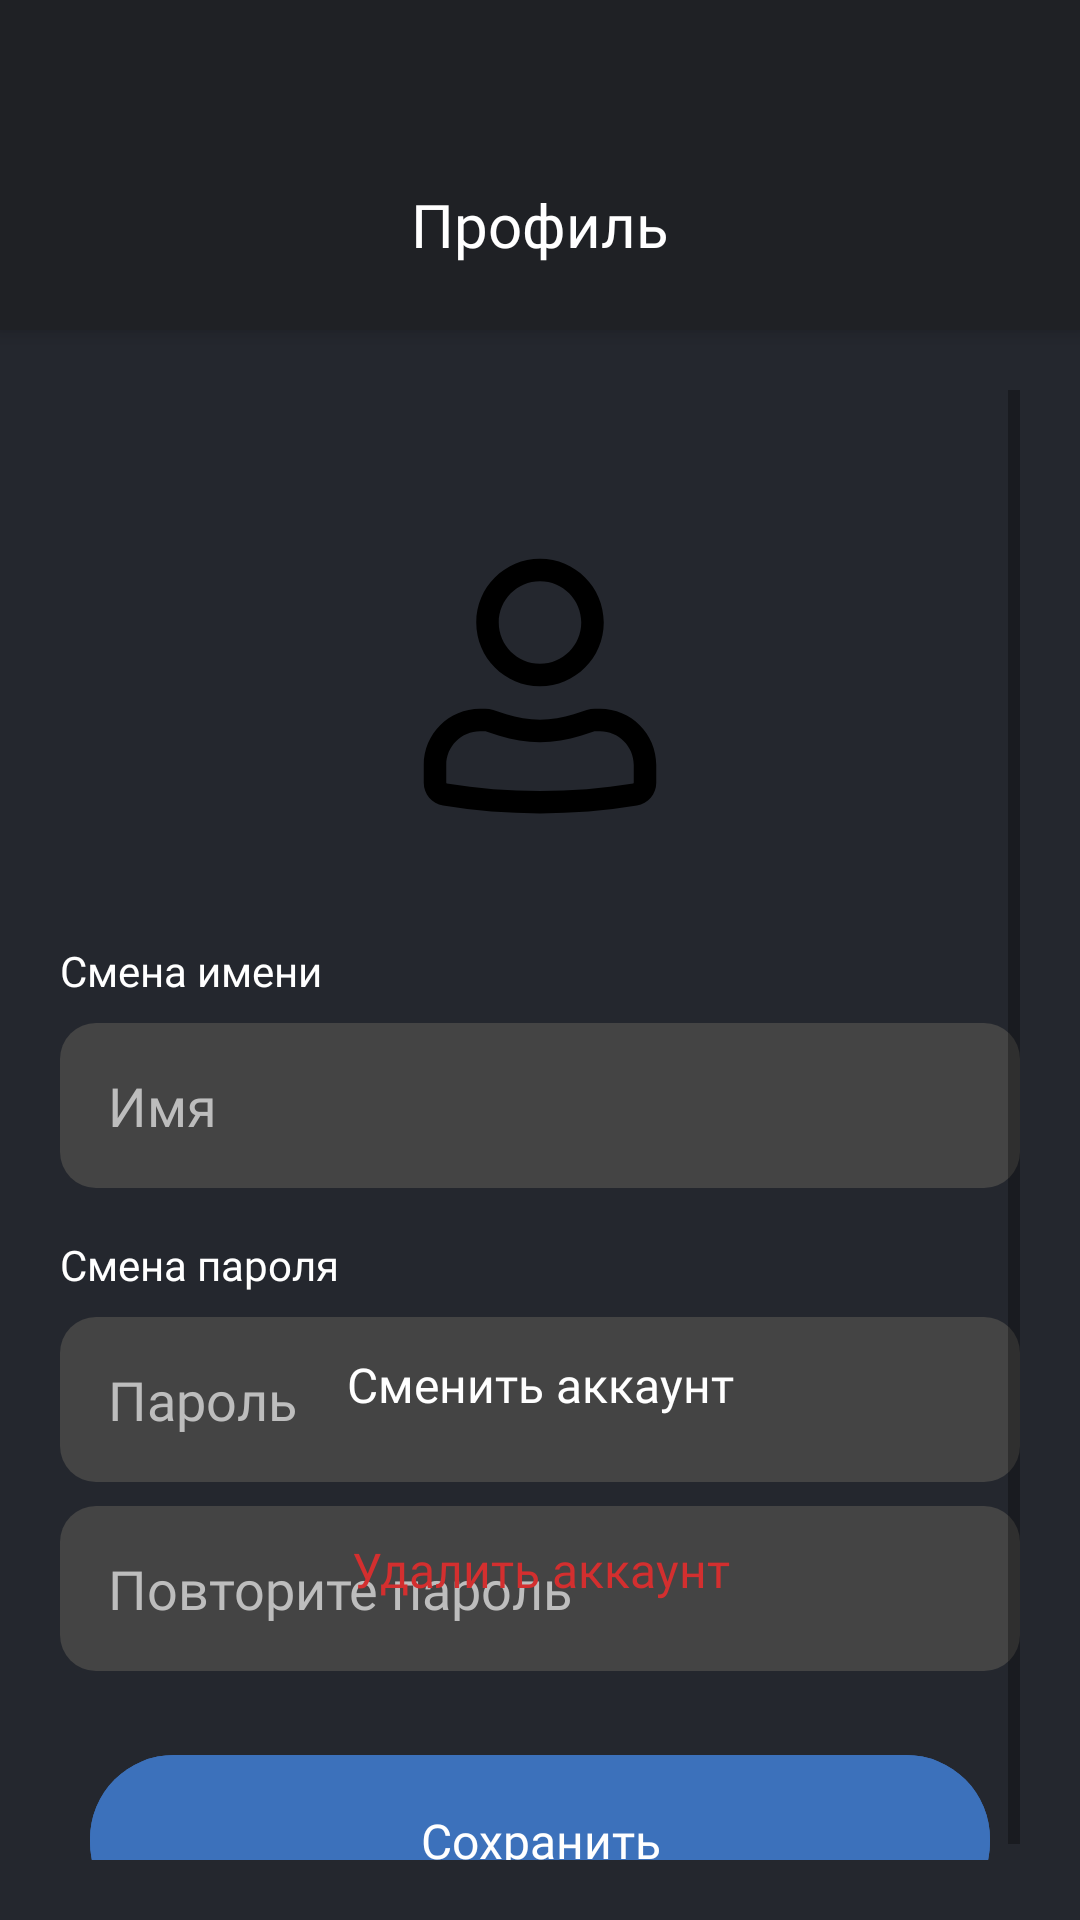

Named icons in this screenshot (1080 × 1920) and their centers, point (x, y):
Фото профиля: point (540, 686)
